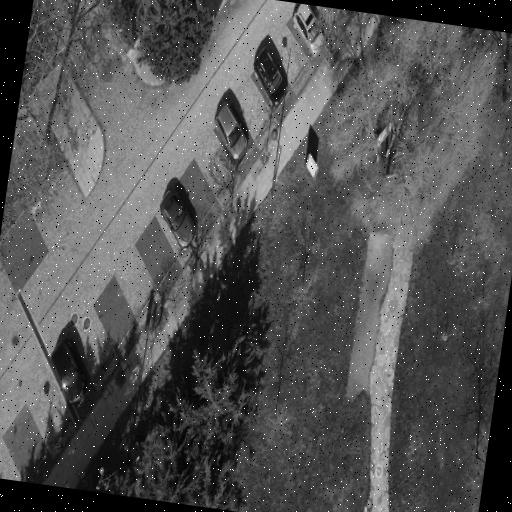person: (51, 340, 84, 404), (160, 189, 195, 249), (253, 47, 286, 107), (214, 102, 246, 161), (292, 4, 322, 56)
